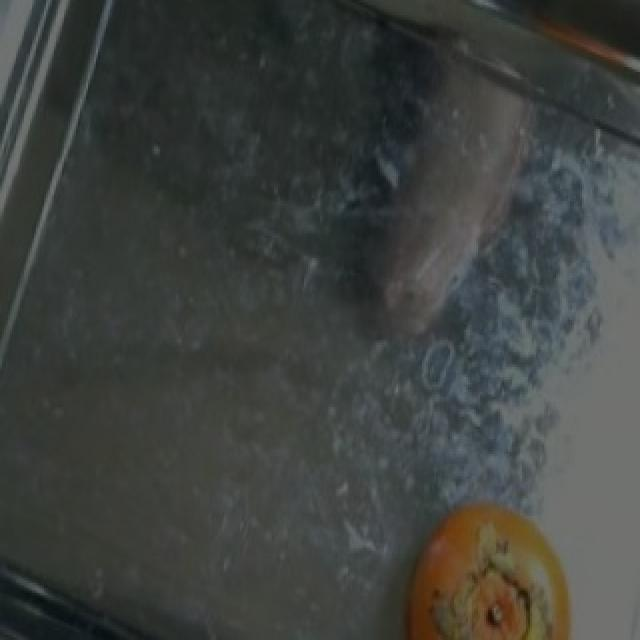Fruit: (384, 479, 600, 640)
